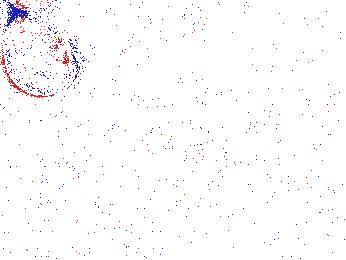moon jellyfish: (142, 81, 244, 154), (1, 14, 79, 98), (120, 17, 216, 59), (255, 11, 346, 55)
